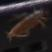cockroach: (8, 10, 45, 40)
